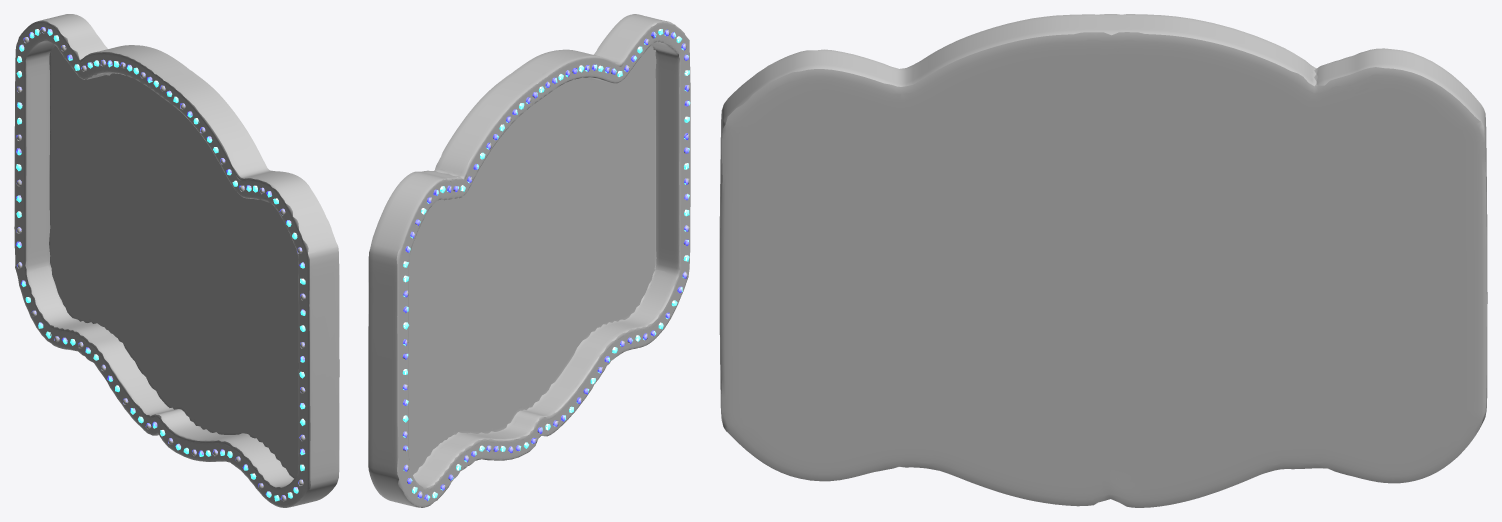
File: SM_SignBoard_01g.fbx
3 renders of one model, left to right at view 1: azimuth 30°, elevation 25°; view 2: azimuth 150°, elevation 25°; view 3: azimuth 270°, elevation 25°, orthographic. The views are drawn at different scales.
Parts seen in each view (by area): view 1: SM_SignBoard_01g_LOD0; view 2: SM_SignBoard_01g_LOD0; view 3: SM_SignBoard_01g_LOD0.
Part boxes in pixels (x1,y1,x2,y2): SM_SignBoard_01g_LOD0: (14,14,339,507); SM_SignBoard_01g_LOD0: (368,14,690,507); SM_SignBoard_01g_LOD0: (719,14,1487,507).
Size of the model in its own units: 9.76 by 141 by 96.75.
